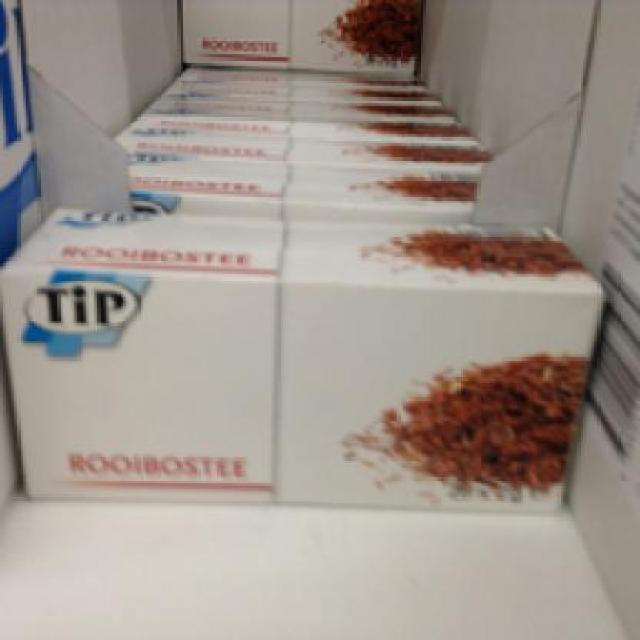Tea: (0, 199, 600, 512)
